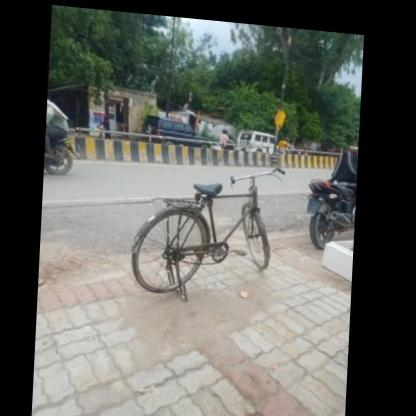Bicycle: (118, 157, 281, 306)
